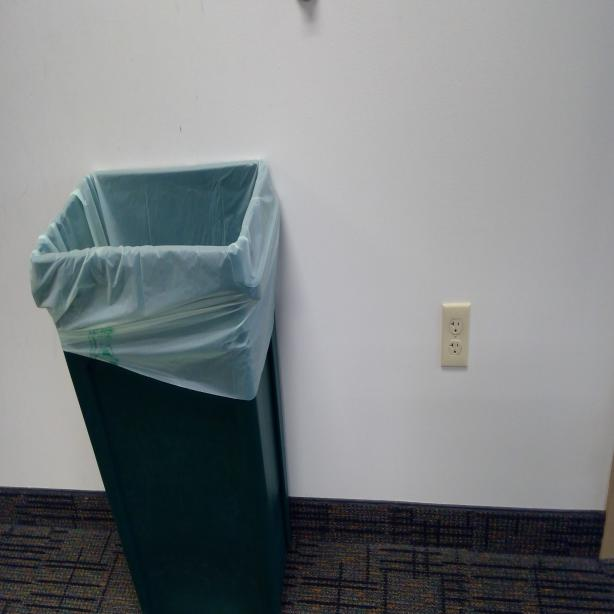typeb: (449, 316, 463, 335), (449, 338, 462, 358)
